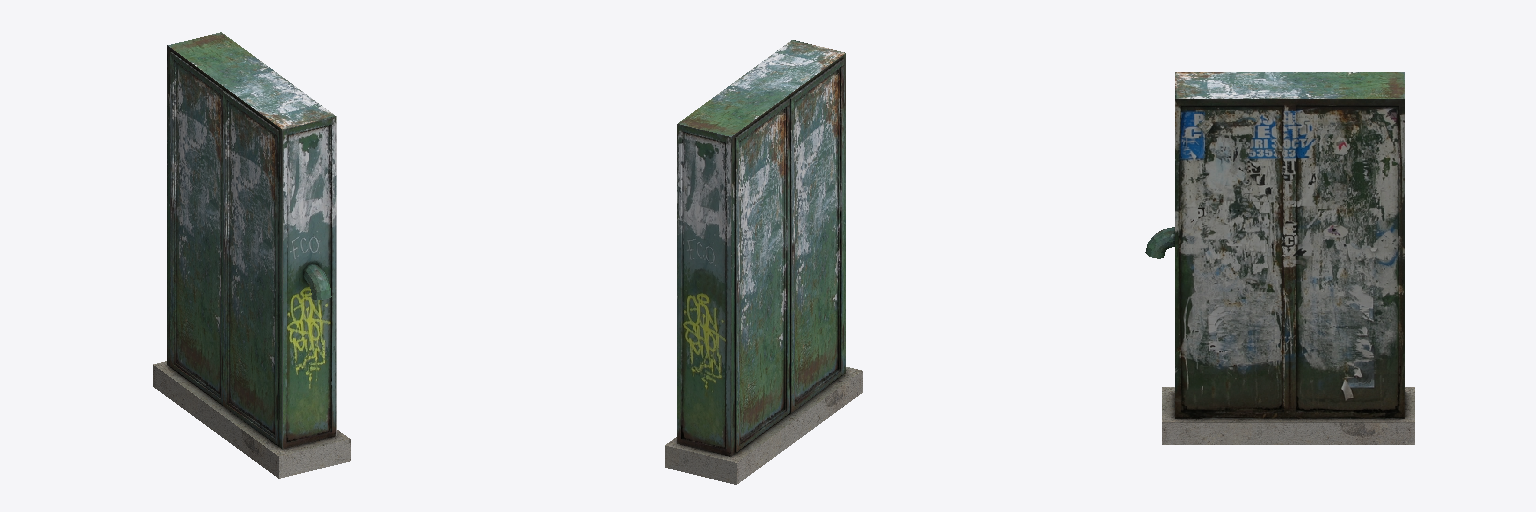
3 views of the same model, side by side, from view 1: azimuth 30°, elevation 25°; view 2: azimuth 150°, elevation 25°; view 3: azimuth 270°, elevation 25° (orthographic).
Visible parts, largest first — view 1: Object_panel_04.jpg, Object_panel_04_stand.jpg; view 2: Object_panel_04.jpg, Object_panel_04_stand.jpg; view 3: Object_panel_04.jpg, Object_panel_04_stand.jpg.
Boxes of the visible parts, x1,y1,x2,y2 form: Object_panel_04.jpg: [167, 32, 336, 449]; Object_panel_04_stand.jpg: [153, 361, 350, 478]; Object_panel_04.jpg: [677, 40, 845, 456]; Object_panel_04_stand.jpg: [665, 367, 862, 484]; Object_panel_04.jpg: [1145, 72, 1404, 418]; Object_panel_04_stand.jpg: [1162, 387, 1414, 444].
Bounding box in the file's own units: 0.548 × 2.5 × 1.78.
3 materials, 2 textured.